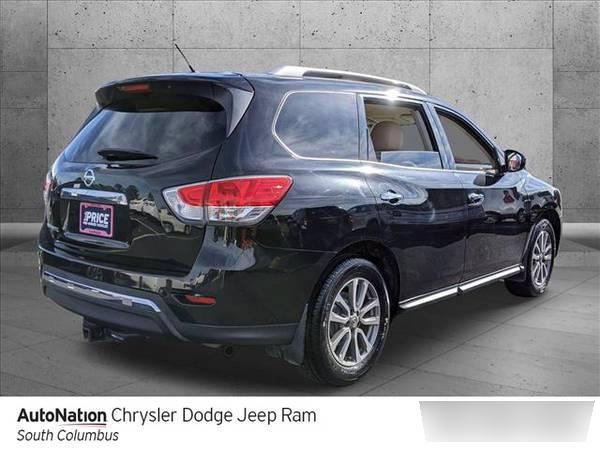Front_Fender: (519, 166, 564, 233)
Front_Right_Door: (458, 169, 531, 289)
Front_Right_Window: (429, 108, 518, 175)
Rear_Bumper: (40, 216, 328, 346)
Rear_Fender: (212, 90, 385, 250)
Rear_Right_Door: (367, 164, 468, 303)
Rear_Right_Window: (362, 98, 455, 176)
Rear_Windshield: (66, 88, 232, 171)
Right_Taillight: (160, 175, 293, 227)
Roof: (94, 61, 509, 165)
Tailgate: (40, 137, 218, 272)
Wheel: (304, 256, 388, 378), (522, 217, 556, 288)
